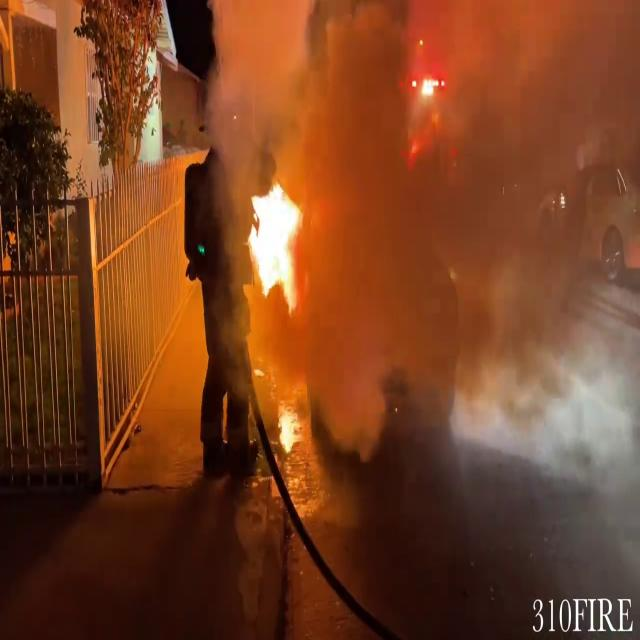Fire: (241, 178, 311, 314)
Smoke: (220, 0, 640, 507), (446, 270, 640, 502)
